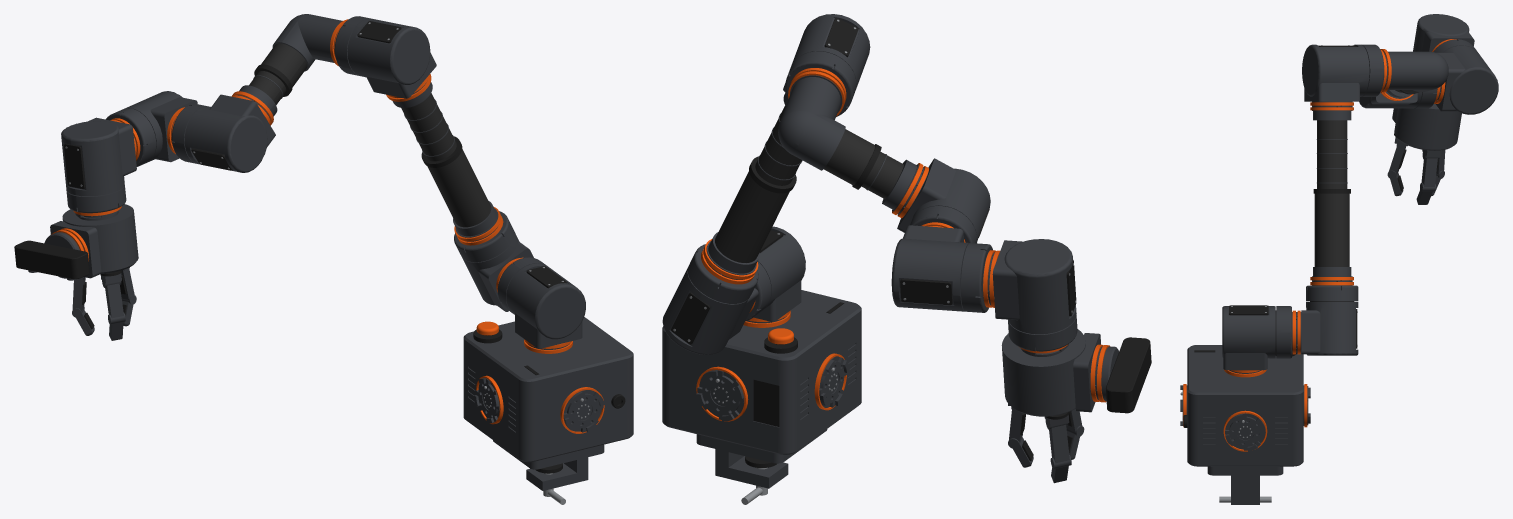
The model's file is morph_bench_arm.glb.
The picture shows the model from 3 angles, left to right: view 1: azimuth 30°, elevation 25°; view 2: azimuth 150°, elevation 25°; view 3: azimuth 270°, elevation 25°; orthographic projection. The views are drawn at different scales.
Parts seen in each view (by area): view 1: hub_housing, joint_4_housing, joint_1_housing, joint_3_housing, joint_6_housing, hand_palm, link_1_sleeve, eye_bar, link_2_elbow_casting, link_1_inner_tube, table_clamp_frame, joint_5_housing (+12 smaller); view 2: hub_housing, joint_6_housing, hand_palm, joint_5_housing, link_2_elbow_casting, link_1_sleeve, joint_4_housing, joint_2_housing, joint_1_housing, table_clamp_frame, eye_bar, joint_3_housing (+19 smaller); view 3: hub_housing, joint_3_housing, joint_5_housing, joint_1_housing, joint_2_housing, link_1_sleeve, hand_palm, link_2_elbow_casting, link_1_inner_tube, table_clamp_frame, joint_6_housing, hub_port_right_flange (+9 smaller).
Boxes of the visible parts, box(x1,y1,x2,y2) form: hub_housing: box(463, 317, 633, 462); joint_4_housing: box(184, 94, 275, 172); joint_1_housing: box(506, 263, 585, 348); joint_3_housing: box(347, 18, 436, 98); joint_6_housing: box(61, 117, 136, 196); hand_palm: box(50, 204, 138, 278); link_1_sleeve: box(427, 149, 491, 227); eye_bar: box(14, 240, 89, 279); link_2_elbow_casting: box(272, 14, 342, 71); link_1_inner_tube: box(401, 93, 456, 161); table_clamp_frame: box(493, 440, 604, 490); joint_5_housing: box(125, 91, 197, 162); hub_housing: box(662, 290, 861, 454); joint_6_housing: box(992, 239, 1076, 334); hand_palm: box(1001, 329, 1100, 416); joint_5_housing: box(891, 225, 969, 311); link_2_elbow_casting: box(778, 77, 845, 170); link_1_sleeve: box(715, 171, 789, 262); joint_4_housing: box(897, 158, 990, 243); joint_2_housing: box(662, 267, 758, 354); joint_1_housing: box(754, 226, 805, 321); table_clamp_frame: box(696, 429, 827, 488); eye_bar: box(1106, 337, 1151, 413); joint_3_housing: box(783, 14, 870, 92); hub_housing: box(1187, 345, 1303, 466); joint_3_housing: box(1302, 44, 1369, 101); joint_5_housing: box(1436, 45, 1498, 114); joint_1_housing: box(1222, 306, 1275, 370); joint_2_housing: box(1301, 302, 1358, 355); link_1_sleeve: box(1314, 193, 1349, 266); hand_palm: box(1392, 104, 1461, 150); link_2_elbow_casting: box(1388, 51, 1448, 92); link_1_inner_tube: box(1317, 120, 1347, 188); table_clamp_frame: box(1207, 466, 1283, 504); joint_6_housing: box(1413, 14, 1474, 51); hub_port_right_flange: box(1225, 413, 1265, 451).
Size of the model in its own units: 0.8617 by 0.7796 by 0.5469.
